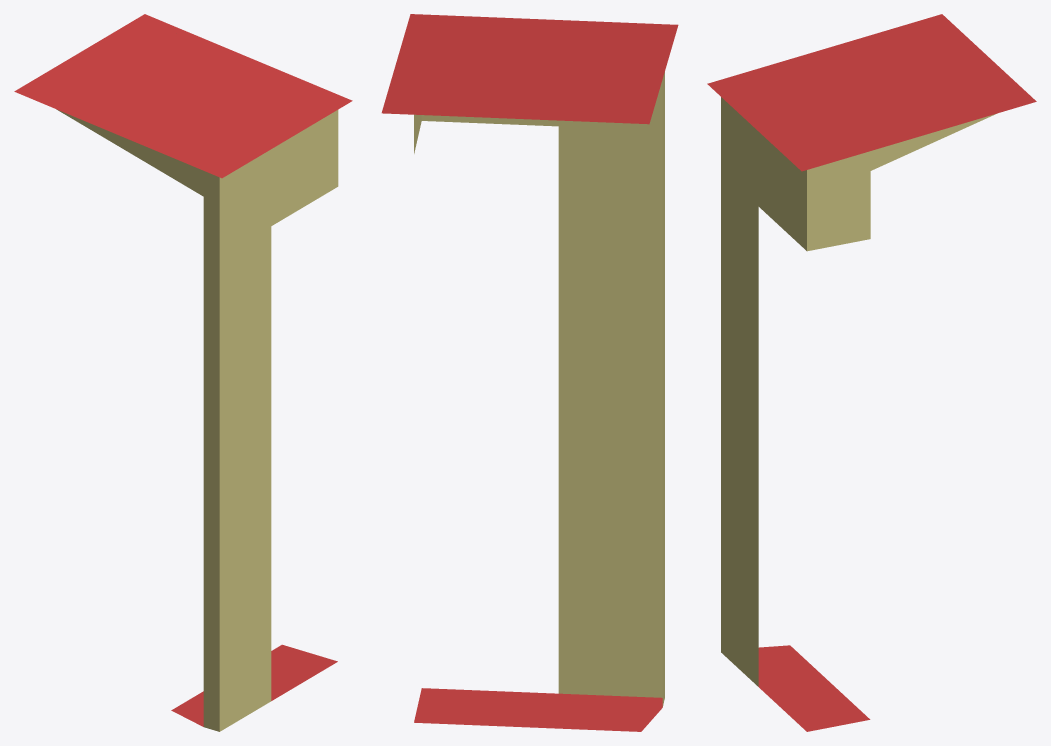
3 views of the same model, side by side, from view 1: azimuth 30°, elevation 25°; view 2: azimuth 150°, elevation 25°; view 3: azimuth 270°, elevation 25° (orthographic). The views are drawn at different scales.
Parts seen in each view (by area): view 1: group_5, group_3, group_6, group_4; view 2: group_5, group_3, group_6, group_4; view 3: group_5, group_3, group_6, group_4.
Boxes of the visible parts, box(x1,y1,x2,y2) form: group_5: box(56, 109, 338, 731); group_3: box(14, 15, 352, 178); group_6: box(171, 644, 337, 726); group_4: box(104, 14, 218, 50); group_5: box(414, 72, 664, 706); group_3: box(381, 14, 678, 124); group_6: box(414, 688, 662, 731); group_4: box(382, 75, 639, 123); group_5: box(721, 97, 996, 686); group_3: box(707, 14, 1032, 171); group_6: box(758, 645, 870, 731); group_4: box(943, 74, 1036, 124).
Bounding box in the file's own units: 7.46 × 7.81 × 15.44.
